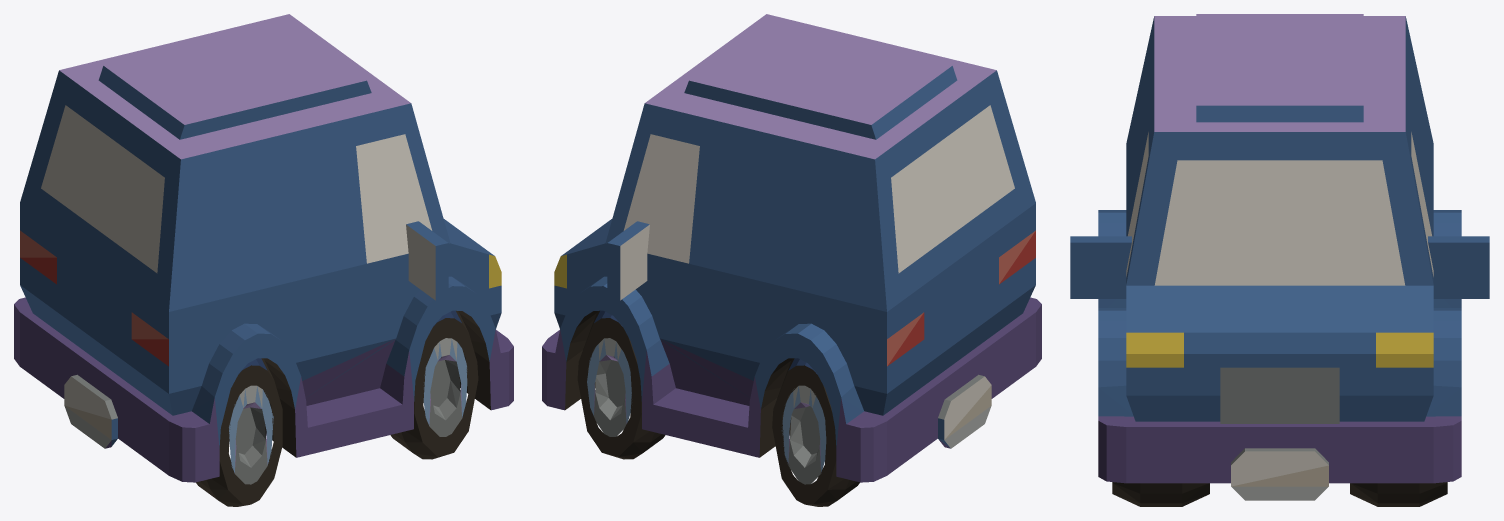
The model's file is van.glb.
3 renders of one model, left to right at view 1: azimuth 30°, elevation 25°; view 2: azimuth 150°, elevation 25°; view 3: azimuth 270°, elevation 25°, orthographic. The views are drawn at different scales.
Bounding box in the file's own units: 1 × 1 × 1.
